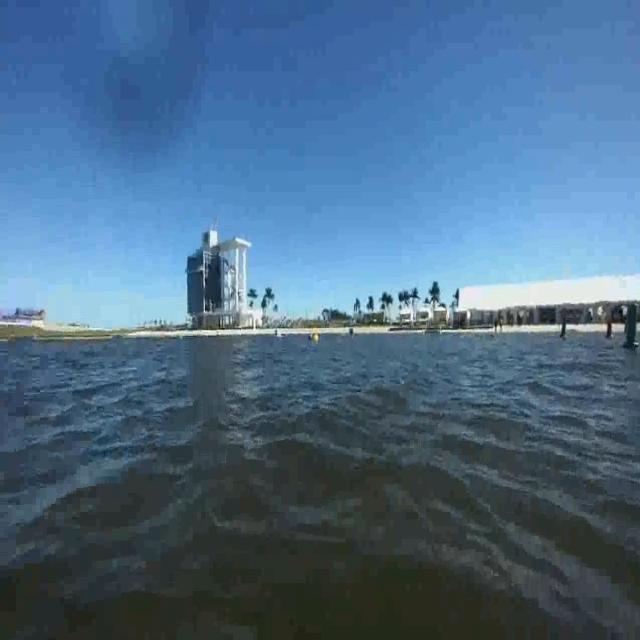green-column-buoy: (621, 300, 640, 350)
red-column-buoy: (604, 312, 615, 341)
yellow-buoy: (314, 334, 320, 345)
